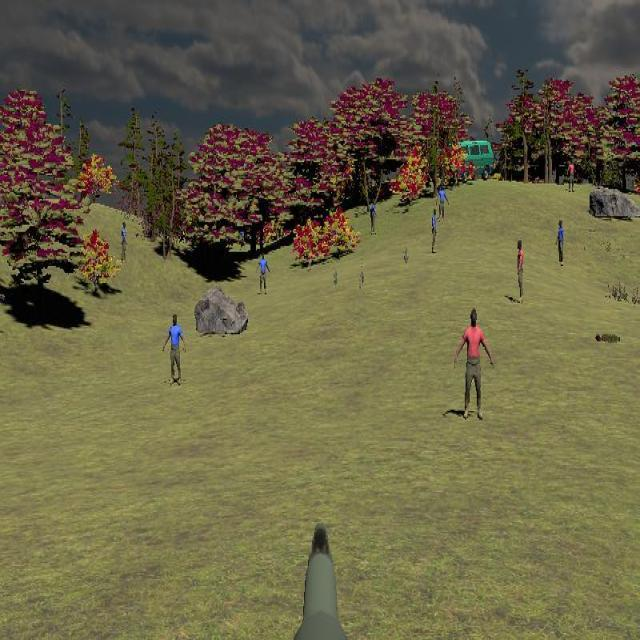Human: (454, 309, 494, 419), (163, 313, 186, 385), (257, 252, 271, 296), (517, 239, 525, 302)
car: (451, 140, 495, 181)
